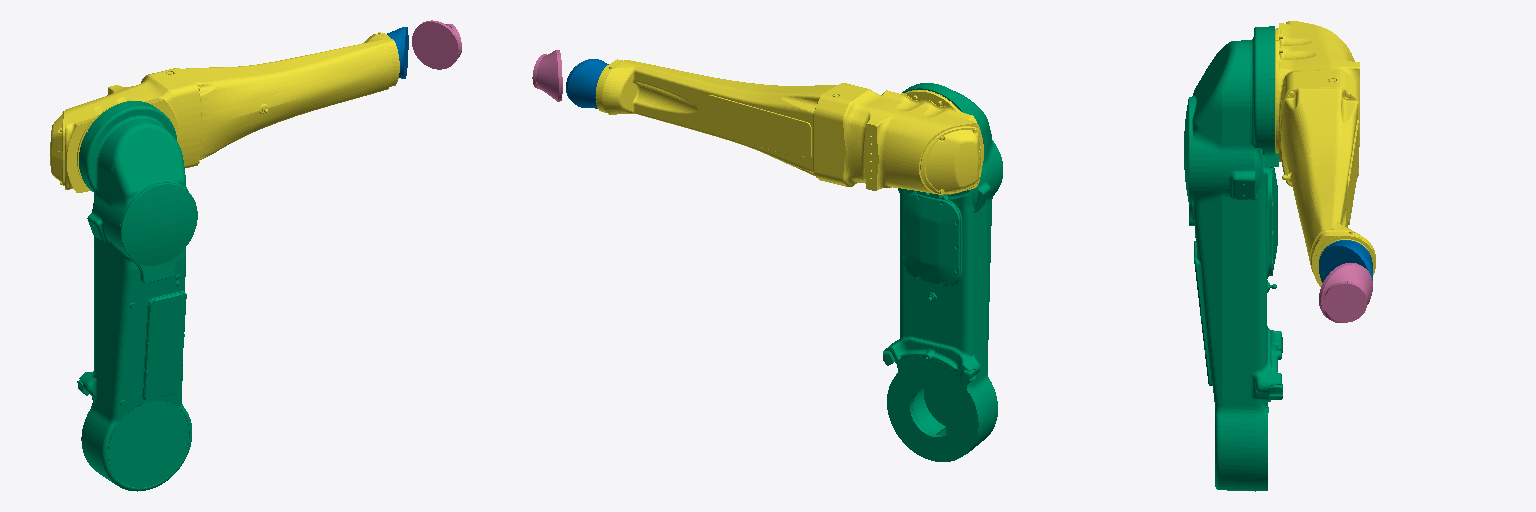
robot.urdf — IRB5510-12_rev00_CAD:
<?xml version="1.0" ?>
<robot name="IRB5510-12_rev00_CAD">

<link name="base_link">
  <inertial>
    <origin xyz="-0.2198204163586881 0.00042151470984517657 0.30730920125871913" rpy="0 0 0"/>
    <mass value="546.7722107426896"/>
    <inertia ixx="27.709277" iyy="24.796335" izz="29.080443" ixy="0.039251" iyz="-0.014815" ixz="-3.497016"/>
  </inertial>
  <visual>
    <origin xyz="0 0 0" rpy="0 0 0"/>
    <geometry>
      <mesh filename="package://IRB5510-12_rev00_CAD_description/meshes/base_link.stl" scale="0.001 0.001 0.001"/>
    </geometry>
    <material name="silver"/>
  </visual>
  <collision>
    <origin xyz="0 0 0" rpy="0 0 0"/>
    <geometry>
      <mesh filename="package://IRB5510-12_rev00_CAD_description/meshes/base_link.stl" scale="0.001 0.001 0.001"/>
    </geometry>
  </collision>
</link>

<link name="IRB5510-12_rev00_LINK1_CAD_1">
  <inertial>
    <origin xyz="-0.002088148900103687 -0.0142436224415375 0.297387949872579" rpy="0 0 0"/>
    <mass value="760.5077067741645"/>
    <inertia ixx="32.796717" iyy="38.935759" izz="27.690645" ixy="0.107341" iyz="4.755505" ixz="0.176021"/>
  </inertial>
  <visual>
    <origin xyz="-0.0 -0.0 -0.484" rpy="0 0 0"/>
    <geometry>
      <mesh filename="package://IRB5510-12_rev00_CAD_description/meshes/IRB5510-12_rev00_LINK1_CAD_1.stl" scale="0.001 0.001 0.001"/>
    </geometry>
    <material name="silver"/>
  </visual>
  <collision>
    <origin xyz="-0.0 -0.0 -0.484" rpy="0 0 0"/>
    <geometry>
      <mesh filename="package://IRB5510-12_rev00_CAD_description/meshes/IRB5510-12_rev00_LINK1_CAD_1.stl" scale="0.001 0.001 0.001"/>
    </geometry>
  </collision>
</link>

<link name="IRB5510-12_rev00_LINK2_CAD_1">
  <inertial>
    <origin xyz="0.00012951666553344317 -0.09623909065982458 0.6070805314545756" rpy="0 0 0"/>
    <mass value="534.057436168823"/>
    <inertia ixx="82.304409" iyy="84.049941" izz="6.185354" ixy="0.051067" iyz="1.13366" ixz="0.042148"/>
  </inertial>
  <visual>
    <origin xyz="0.0 0.231 -0.92" rpy="0 0 0"/>
    <geometry>
      <mesh filename="package://IRB5510-12_rev00_CAD_description/meshes/IRB5510-12_rev00_LINK2_CAD_1.stl" scale="0.001 0.001 0.001"/>
    </geometry>
    <material name="silver"/>
  </visual>
  <collision>
    <origin xyz="0.0 0.231 -0.92" rpy="0 0 0"/>
    <geometry>
      <mesh filename="package://IRB5510-12_rev00_CAD_description/meshes/IRB5510-12_rev00_LINK2_CAD_1.stl" scale="0.001 0.001 0.001"/>
    </geometry>
  </collision>
</link>

<link name="IRB5510-12_rev00_LINK3_CAD_1">
  <inertial>
    <origin xyz="0.3438035099812337 0.1378290112414401 3.352144561930004e-08" rpy="0 0 0"/>
    <mass value="510.571285741552"/>
    <inertia ixx="4.896184" iyy="71.120767" izz="70.249143" ixy="-3.753696" iyz="0.0" ixz="9e-06"/>
  </inertial>
  <visual>
    <origin xyz="-0.0 0.217 -2.02" rpy="0 0 0"/>
    <geometry>
      <mesh filename="package://IRB5510-12_rev00_CAD_description/meshes/IRB5510-12_rev00_LINK3_CAD_1.stl" scale="0.001 0.001 0.001"/>
    </geometry>
    <material name="silver"/>
  </visual>
  <collision>
    <origin xyz="-0.0 0.217 -2.02" rpy="0 0 0"/>
    <geometry>
      <mesh filename="package://IRB5510-12_rev00_CAD_description/meshes/IRB5510-12_rev00_LINK3_CAD_1.stl" scale="0.001 0.001 0.001"/>
    </geometry>
  </collision>
</link>

<link name="IRB5510-12_rev00_LINK4_CAD_1">
  <inertial>
    <origin xyz="0.04504418824683665 0.015640363607786298 -5.6340825782541515e-08" rpy="0 0 0"/>
    <mass value="13.246564877496244"/>
    <inertia ixx="0.043539" iyy="0.036823" izz="0.029169" ixy="-0.006373" iyz="0.0" ixz="-0.0"/>
  </inertial>
  <visual>
    <origin xyz="-1.219 0.0 -2.02" rpy="0 0 0"/>
    <geometry>
      <mesh filename="package://IRB5510-12_rev00_CAD_description/meshes/IRB5510-12_rev00_LINK4_CAD_1.stl" scale="0.001 0.001 0.001"/>
    </geometry>
    <material name="silver"/>
  </visual>
  <collision>
    <origin xyz="-1.219 0.0 -2.02" rpy="0 0 0"/>
    <geometry>
      <mesh filename="package://IRB5510-12_rev00_CAD_description/meshes/IRB5510-12_rev00_LINK4_CAD_1.stl" scale="0.001 0.001 0.001"/>
    </geometry>
  </collision>
</link>

<link name="IRB5510-12_rev00_LINK5_CAD_1">
  <inertial>
    <origin xyz="0.059936040885649744 -0.022501914863573776 9.342077778029534e-08" rpy="0 0 0"/>
    <mass value="22.90378370207612"/>
    <inertia ixx="0.078073" iyy="0.096705" izz="0.075709" ixy="0.0" iyz="0.0" ixz="0.0"/>
  </inertial>
  <visual>
    <origin xyz="-1.293415 0.003441 -2.02" rpy="0 0 0"/>
    <geometry>
      <mesh filename="package://IRB5510-12_rev00_CAD_description/meshes/IRB5510-12_rev00_LINK5_CAD_1.stl" scale="0.001 0.001 0.001"/>
    </geometry>
    <material name="silver"/>
  </visual>
  <collision>
    <origin xyz="-1.293415 0.003441 -2.02" rpy="0 0 0"/>
    <geometry>
      <mesh filename="package://IRB5510-12_rev00_CAD_description/meshes/IRB5510-12_rev00_LINK5_CAD_1.stl" scale="0.001 0.001 0.001"/>
    </geometry>
  </collision>
</link>

<link name="IRB5510-12_rev00_LINK5B_CAD_1">
  <inertial>
    <origin xyz="0.02732309547874623 0.0150661145565937 2.519886863616705e-07" rpy="0 0 0"/>
    <mass value="11.027488801145376"/>
    <inertia ixx="0.031527" iyy="0.028228" izz="0.022716" ixy="0.005894" iyz="0.0" ixz="-0.0"/>
  </inertial>
  <visual>
    <origin xyz="-1.413287 0.003441 -2.02" rpy="0 0 0"/>
    <geometry>
      <mesh filename="package://IRB5510-12_rev00_CAD_description/meshes/IRB5510-12_rev00_LINK5B_CAD_1.stl" scale="0.001 0.001 0.001"/>
    </geometry>
    <material name="silver"/>
  </visual>
  <collision>
    <origin xyz="-1.413287 0.003441 -2.02" rpy="0 0 0"/>
    <geometry>
      <mesh filename="package://IRB5510-12_rev00_CAD_description/meshes/IRB5510-12_rev00_LINK5B_CAD_1.stl" scale="0.001 0.001 0.001"/>
    </geometry>
  </collision>
</link>

<link name="IRB5510-12_rev00_LINK6_CAD_1">
  <inertial>
    <origin xyz="-0.005525322762831575 -7.898034053255287e-07 -1.423777321374331e-06" rpy="0 0 0"/>
    <mass value="0.3574993425525093"/>
    <inertia ixx="0.001069" iyy="0.000527" izz="0.000548" ixy="-0.0" iyz="5e-06" ixz="-0.0"/>
  </inertial>
  <visual>
    <origin xyz="-1.5001 0.0 -2.02" rpy="0 0 0"/>
    <geometry>
      <mesh filename="package://IRB5510-12_rev00_CAD_description/meshes/IRB5510-12_rev00_LINK6_CAD_1.stl" scale="0.001 0.001 0.001"/>
    </geometry>
    <material name="silver"/>
  </visual>
  <collision>
    <origin xyz="-1.5001 0.0 -2.02" rpy="0 0 0"/>
    <geometry>
      <mesh filename="package://IRB5510-12_rev00_CAD_description/meshes/IRB5510-12_rev00_LINK6_CAD_1.stl" scale="0.001 0.001 0.001"/>
    </geometry>
  </collision>
</link>

<joint name="j1" type="continuous">
  <origin xyz="0.0 0.0 0.484" rpy="0 0 0"/>
  <parent link="base_link"/>
  <child link="IRB5510-12_rev00_LINK1_CAD_1"/>
  <axis xyz="0.0 0.0 -1.0"/>
</joint>

<joint name="j2" type="continuous">
  <origin xyz="-0.0 -0.231 0.436" rpy="0 0 0"/>
  <parent link="IRB5510-12_rev00_LINK1_CAD_1"/>
  <child link="IRB5510-12_rev00_LINK2_CAD_1"/>
  <axis xyz="0.0 1.0 0.0"/>
</joint>

<joint name="j3" type="continuous">
  <origin xyz="0.0 0.014 1.1" rpy="0 0 0"/>
  <parent link="IRB5510-12_rev00_LINK2_CAD_1"/>
  <child link="IRB5510-12_rev00_LINK3_CAD_1"/>
  <axis xyz="0.0 1.0 0.0"/>
</joint>

<joint name="j4" type="continuous">
  <origin xyz="1.219 0.217 0.0" rpy="0 0 0"/>
  <parent link="IRB5510-12_rev00_LINK3_CAD_1"/>
  <child link="IRB5510-12_rev00_LINK4_CAD_1"/>
  <axis xyz="1.0 0.0 0.0"/>
</joint>

<joint name="j5" type="continuous">
  <origin xyz="0.074415 -0.003441 0.0" rpy="0 0 0"/>
  <parent link="IRB5510-12_rev00_LINK4_CAD_1"/>
  <child link="IRB5510-12_rev00_LINK5_CAD_1"/>
  <axis xyz="0.819152 -0.573576 0.0"/>
</joint>

<joint name="j6" type="continuous">
  <origin xyz="0.119872 0.0 0.0" rpy="0 0 0"/>
  <parent link="IRB5510-12_rev00_LINK5_CAD_1"/>
  <child link="IRB5510-12_rev00_LINK5B_CAD_1"/>
  <axis xyz="0.819152 0.573576 0.0"/>
</joint>

<joint name="j6b" type="revolute">
  <origin xyz="0.086813 0.003441 0.0" rpy="0 0 0"/>
  <parent link="IRB5510-12_rev00_LINK5B_CAD_1"/>
  <child link="IRB5510-12_rev00_LINK6_CAD_1"/>
  <axis xyz="-1.0 0.0 -0.0"/>
  <limit upper="0.0" lower="0.0" effort="100" velocity="100"/>
</joint>

</robot>

--- What the picture shows (computed from the rendered views, not written in the file) ---
The picture shows the robot from 3 angles, left to right: view 1: azimuth 30°, elevation 25°; view 2: azimuth 150°, elevation 25°; view 3: azimuth 270°, elevation 25°; orthographic projection.
Model IRB5510-12_rev00_CAD with 8 links and 7 joints (1 revolute, 6 continuous), rooted at base_link, posed every joint at zero.
Visible links, largest first — view 1: IRB5510-12_rev00_LINK2_CAD_1, IRB5510-12_rev00_LINK3_CAD_1, IRB5510-12_rev00_LINK5B_CAD_1, IRB5510-12_rev00_LINK4_CAD_1; view 2: IRB5510-12_rev00_LINK3_CAD_1, IRB5510-12_rev00_LINK2_CAD_1, IRB5510-12_rev00_LINK4_CAD_1, IRB5510-12_rev00_LINK5B_CAD_1; view 3: IRB5510-12_rev00_LINK2_CAD_1, IRB5510-12_rev00_LINK3_CAD_1, IRB5510-12_rev00_LINK5B_CAD_1, IRB5510-12_rev00_LINK4_CAD_1.
Link boxes in pixels (x1=…): IRB5510-12_rev00_LINK2_CAD_1: x1=77, y1=101, x2=197, y2=491; IRB5510-12_rev00_LINK3_CAD_1: x1=50, y1=32, x2=399, y2=192; IRB5510-12_rev00_LINK5B_CAD_1: x1=412, y1=20, x2=461, y2=69; IRB5510-12_rev00_LINK4_CAD_1: x1=387, y1=27, x2=408, y2=78; IRB5510-12_rev00_LINK3_CAD_1: x1=595, y1=59, x2=983, y2=194; IRB5510-12_rev00_LINK2_CAD_1: x1=883, y1=83, x2=1002, y2=461; IRB5510-12_rev00_LINK4_CAD_1: x1=566, y1=59, x2=608, y2=108; IRB5510-12_rev00_LINK5B_CAD_1: x1=532, y1=50, x2=562, y2=101; IRB5510-12_rev00_LINK2_CAD_1: x1=1184, y1=26, x2=1282, y2=491; IRB5510-12_rev00_LINK3_CAD_1: x1=1275, y1=21, x2=1375, y2=286; IRB5510-12_rev00_LINK5B_CAD_1: x1=1319, y1=263, x2=1372, y2=322; IRB5510-12_rev00_LINK4_CAD_1: x1=1319, y1=240, x2=1372, y2=282.
Size in the robot's own frame: 1.74 by 0.5705 by 1.49 metres.
4 mesh visuals loaded from 8 distinct referenced files (4 binary STL); not drawn: 4 (reference not matched to a file when rendering).